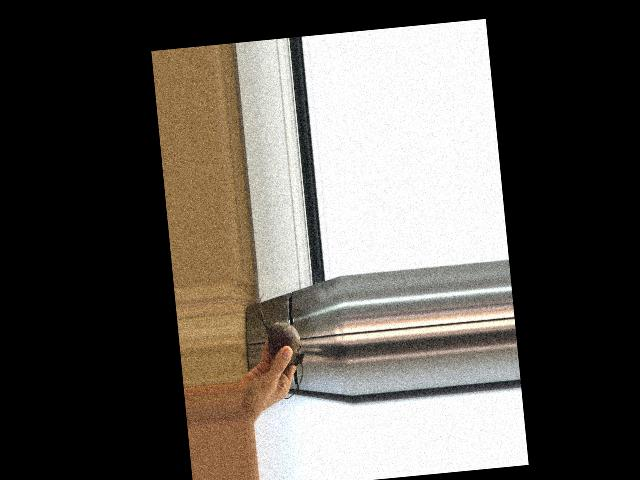beet: (257, 289, 307, 400)
